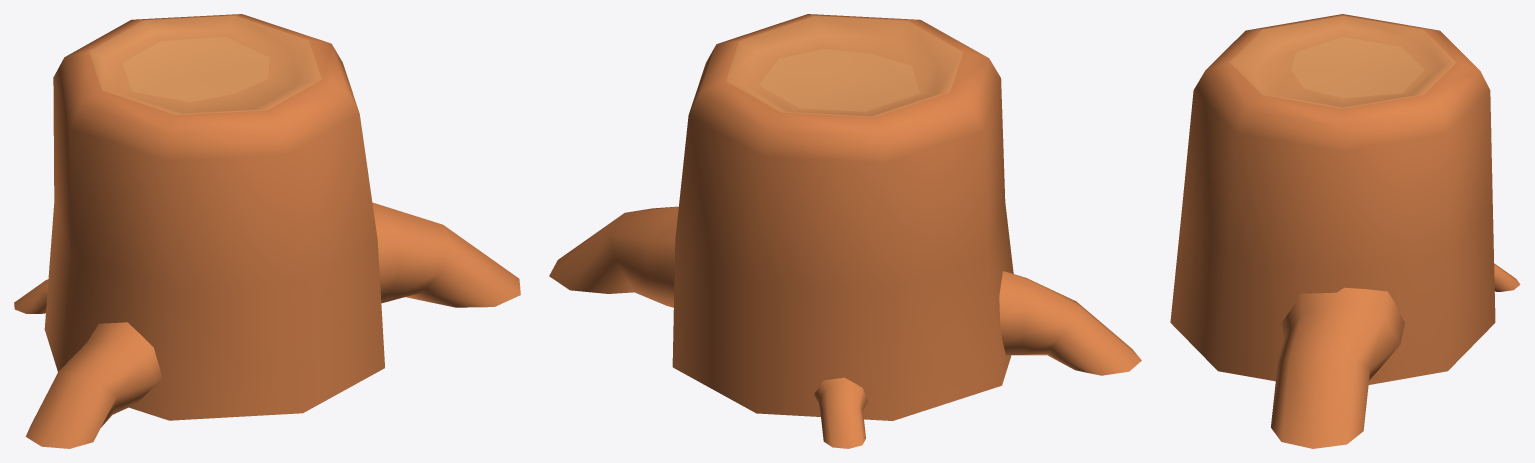
Rendered from treeTrunk.glb.
The picture shows the model from 3 angles, left to right: view 1: azimuth 30°, elevation 25°; view 2: azimuth 150°, elevation 25°; view 3: azimuth 270°, elevation 25°; orthographic projection. The views are drawn at different scales.
Parts seen in each view (by area): view 1: treeTrunk; view 2: treeTrunk; view 3: treeTrunk.
Part boxes in pixels (x1,y1,x2,y2): treeTrunk: (14, 14, 520, 448); treeTrunk: (549, 14, 1141, 448); treeTrunk: (1170, 14, 1520, 448).
Size of the model in its own units: 0.6843 by 0.3506 by 0.427.
1 material, 1 textured.
